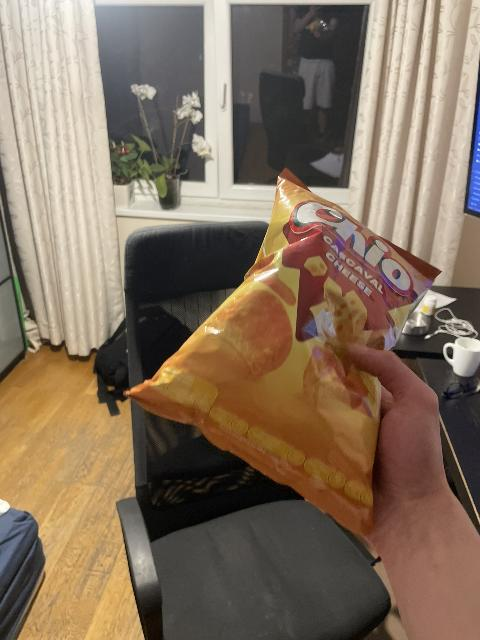Chio Cascaval 125g: (128, 170, 439, 533)
